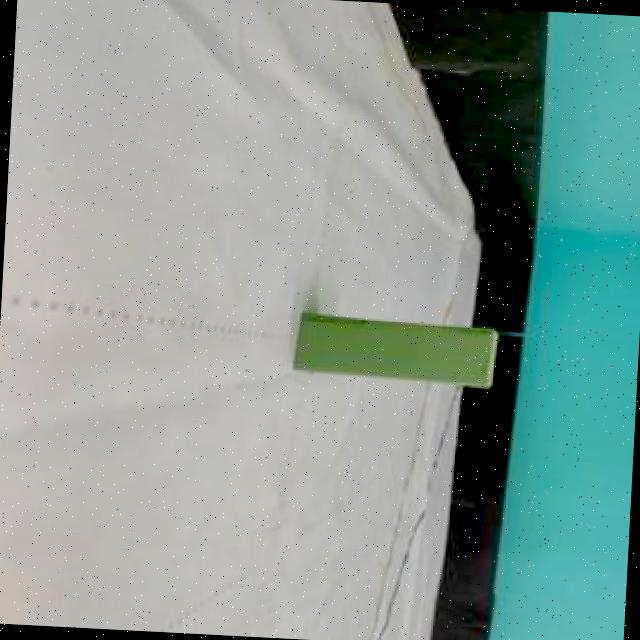greenbox: (292, 312, 504, 389)
